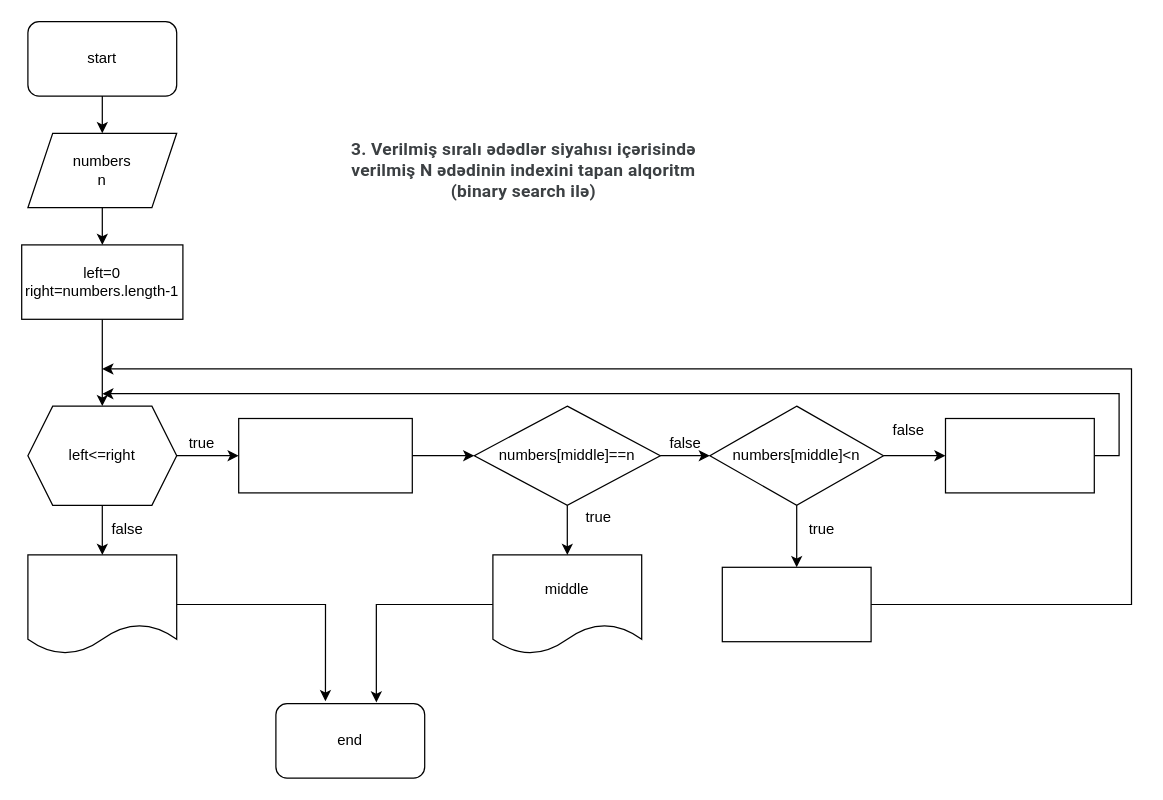
Image size: 1163x800. Some labels were removed from this diagram. The centre of each missing label's shape, as x and y in pixels:
Element does not exist in series: [102,604]
left = middle + 1: [796,604]
middle=left+(right-left)/2: [324,455]
right = middle - 1: [1019,455]
